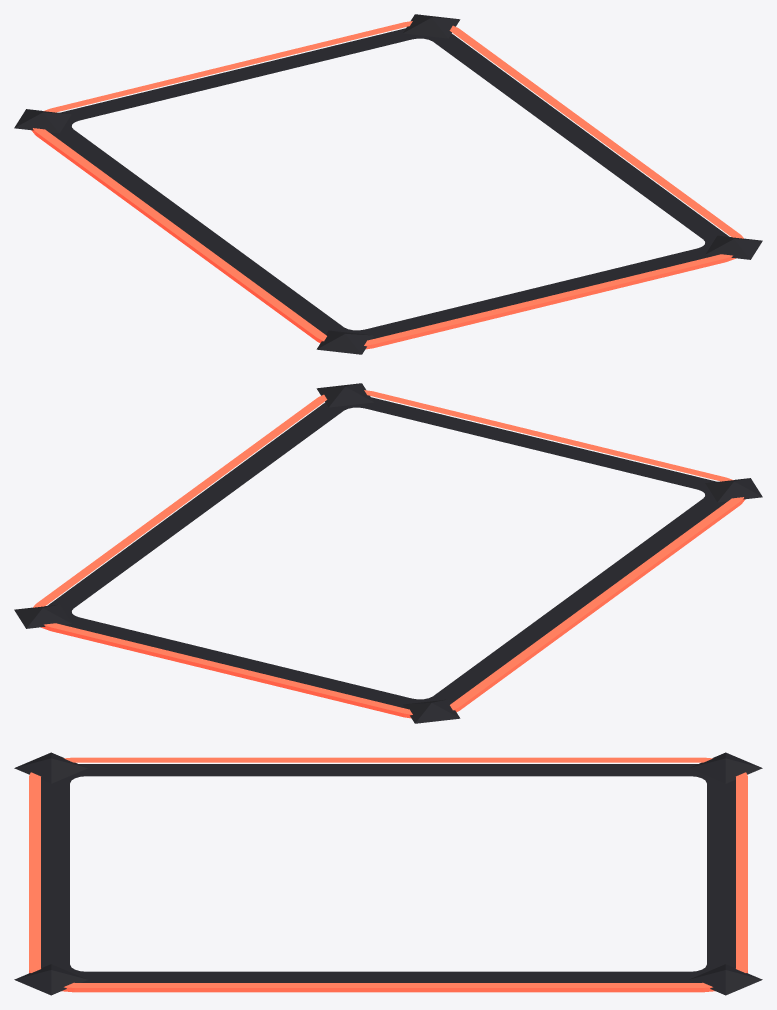
File: ss_plate_b.glb
3 renders of one model, top to bottom at view 1: azimuth 30°, elevation 25°; view 2: azimuth 150°, elevation 25°; view 3: azimuth 270°, elevation 25°, orthographic. The views are drawn at different scales.
Visible parts, largest first — view 1: mwx_plate_g; view 2: mwx_plate_g; view 3: mwx_plate_g.
Boxes of the visible parts, box(x1,y1,x2,y2) form: mwx_plate_g: box(14, 14, 762, 354); mwx_plate_g: box(14, 383, 762, 723); mwx_plate_g: box(14, 752, 762, 995).
Size of the model in its own units: 8.5 by 0.21 by 11.07.
